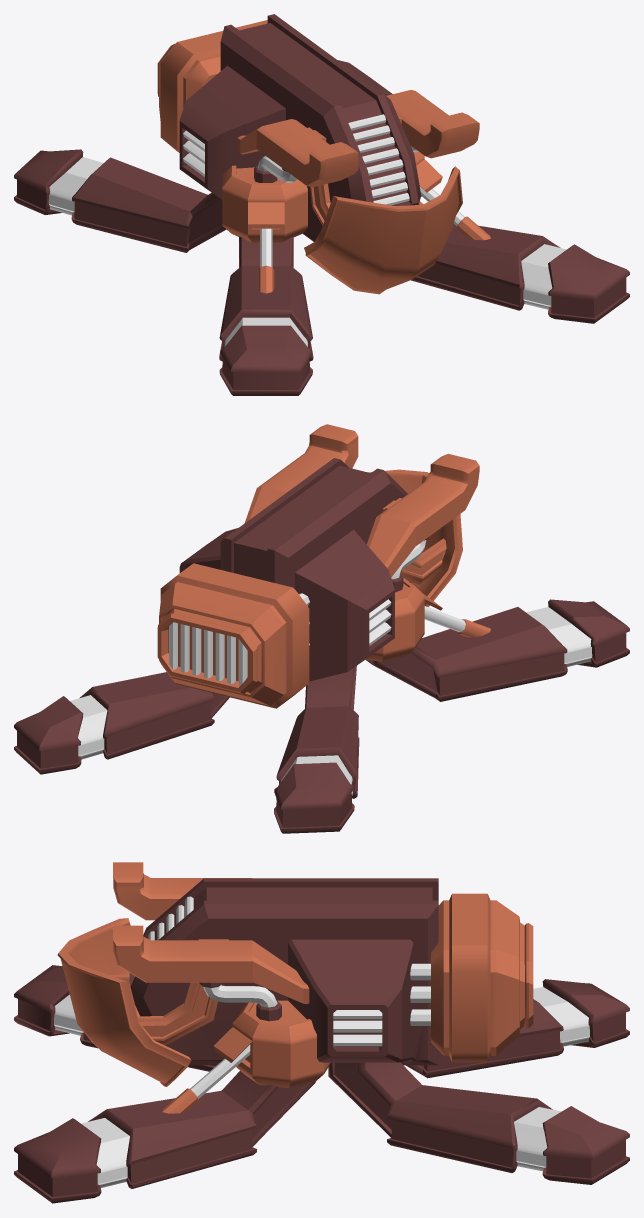
The model's file is top_gun_base_module.fbx.
3 renders of one model, top to bottom at view 1: azimuth 30°, elevation 25°; view 2: azimuth 150°, elevation 25°; view 3: azimuth 270°, elevation 25°, orthographic. The views are drawn at different scales.
Visible parts, largest first — view 1: top_gun_base; view 2: top_gun_base; view 3: top_gun_base.
Boxes of the visible parts, x1,y1,x2,y2 form: top_gun_base: (14,14,629,395); top_gun_base: (14,424,629,833); top_gun_base: (14,862,629,1203).
Size of the model in its own units: 55.61 by 26.08 by 69.49.
